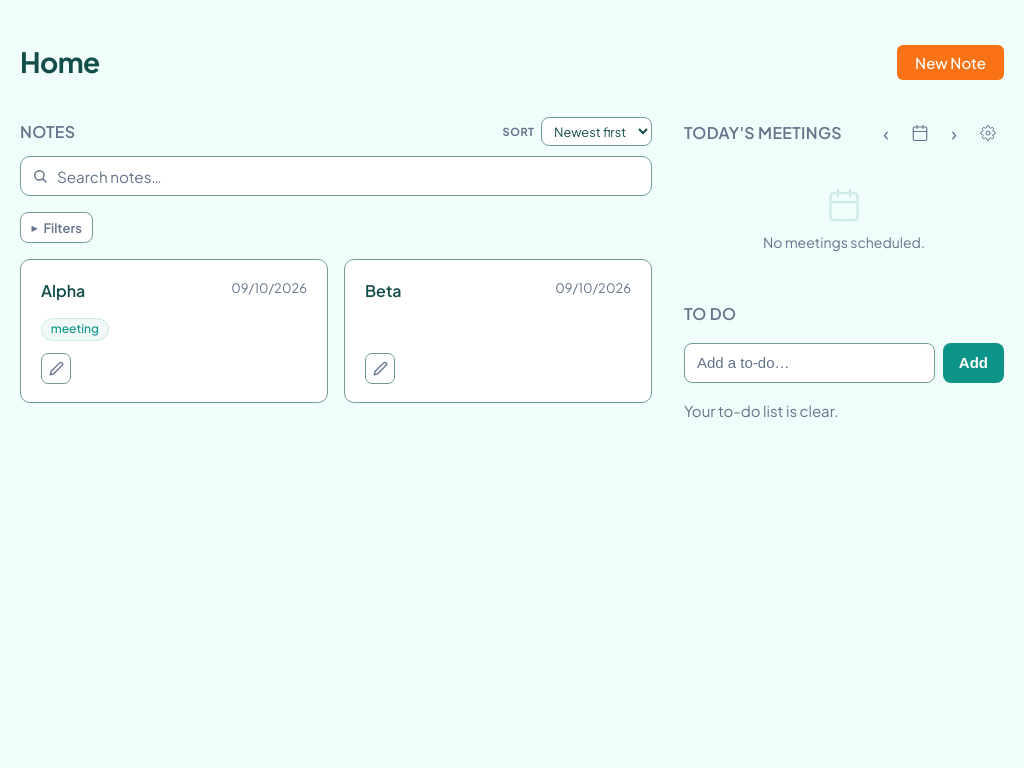
Test case: TagFilter — filtering cards via ListView › clicking a tag pill hides cards that do not match
Note: Home filters default to collapsed (CHANGE-6) — expand first.
Click the button "▸ Filters": (57, 228) x1=20 y1=212 x2=93 y2=243
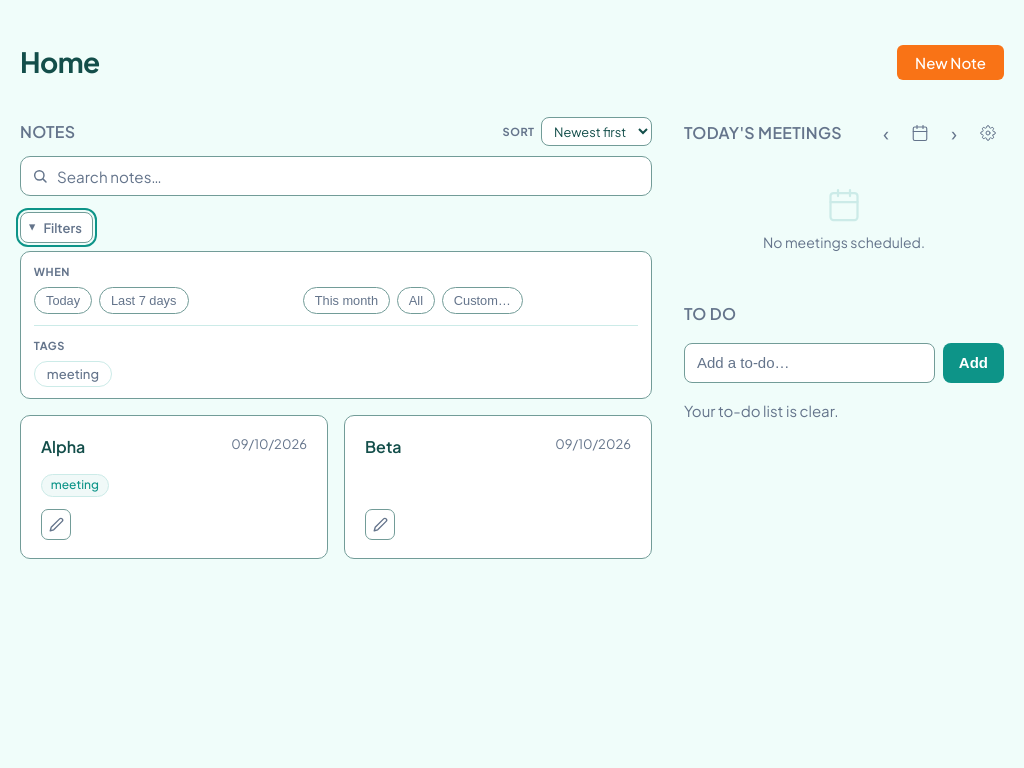
Click the button with test id "tag-filter-pill-meeting": (73, 374) x1=34 y1=361 x2=112 y2=387
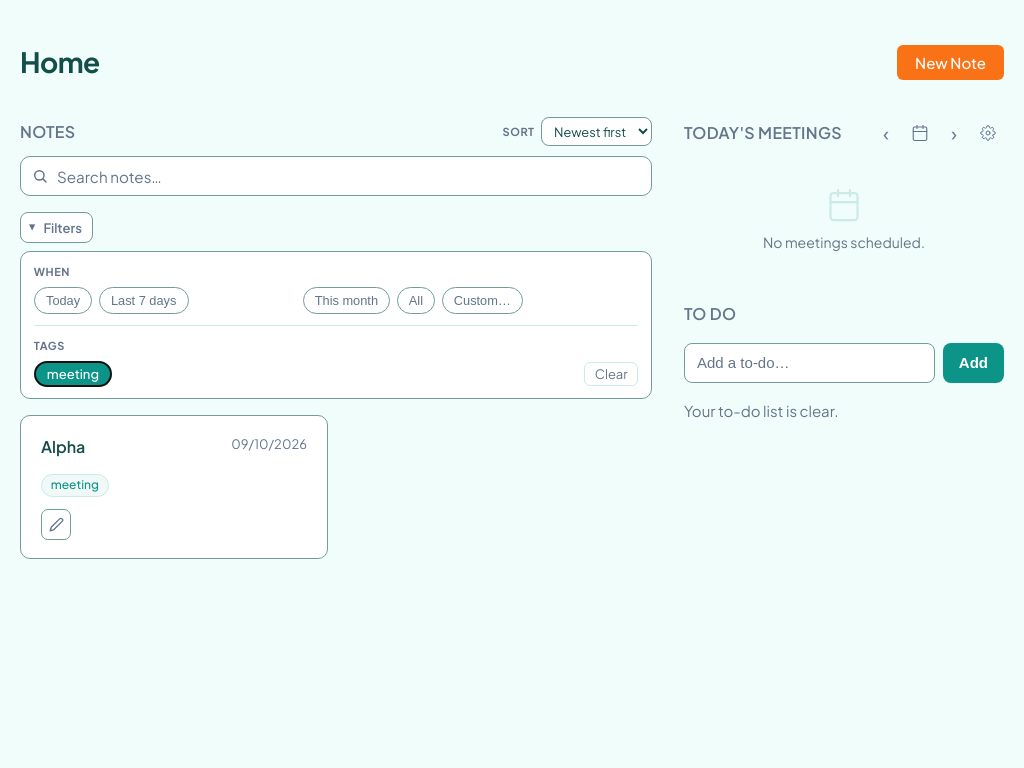
expect the heading "Alpha" is shown: met, box x1=41 y1=436 x2=85 y2=457
expect the heading "Beta" is gone: met
